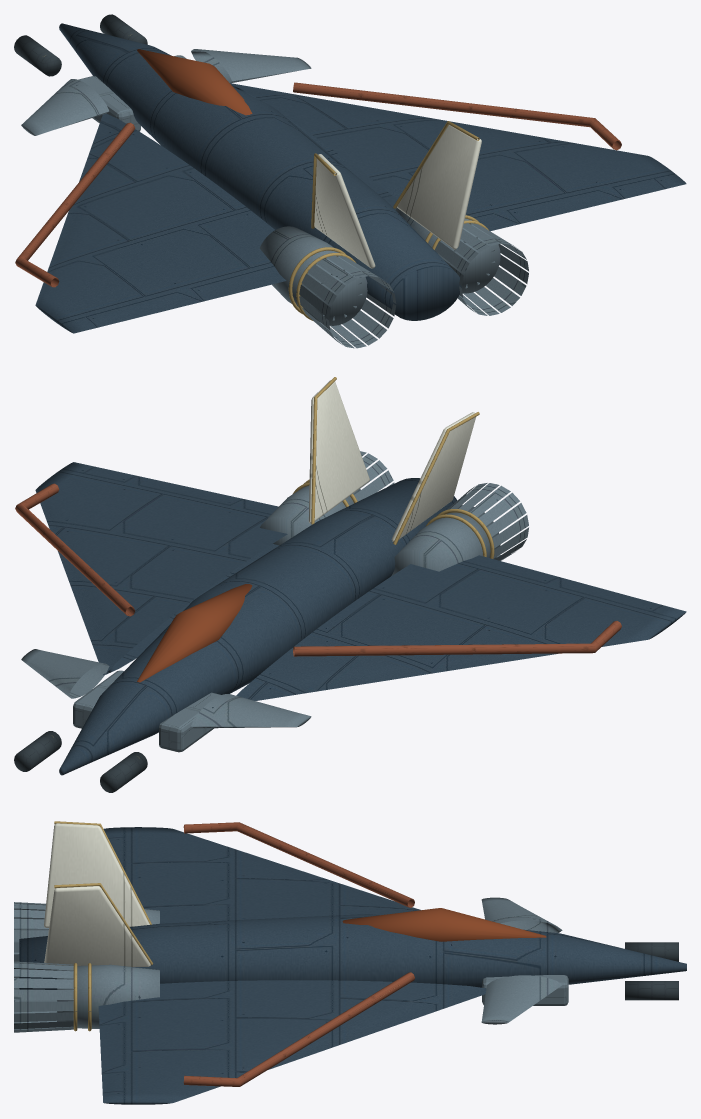
File: interceptor-high.glb
3 views of the same model, one above another, from view 1: azimuth 30°, elevation 25°; view 2: azimuth 150°, elevation 25°; view 3: azimuth 270°, elevation 25° (orthographic). The views are drawn at different scales.
Parts seen in each view (by area): view 1: core-navy-surfaces, core-titanium-surfaces, core-ceramic-surfaces, core-hostile-surfaces, core-enemyglass-surfaces, core-brass-surfaces, core-graphite-surfaces; view 2: core-navy-surfaces, core-titanium-surfaces, core-ceramic-surfaces, core-hostile-surfaces, core-enemyglass-surfaces, core-graphite-surfaces, core-brass-surfaces; view 3: core-navy-surfaces, core-titanium-surfaces, core-ceramic-surfaces, core-hostile-surfaces, core-enemyglass-surfaces, core-graphite-surfaces, core-brass-surfaces.
Boxes of the visible parts, x1,y1,x2,y2 form: core-navy-surfaces: (35,23,686,333); core-titanium-surfaces: (21,49,528,348); core-ceramic-surfaces: (314,124,481,268); core-hostile-surfaces: (15,82,621,287); core-enemyglass-surfaces: (137,49,252,115); core-brass-surfaces: (288,121,488,320); core-graphite-surfaces: (14,14,147,76); core-navy-surfaces: (35,462,686,775); core-titanium-surfaces: (21,451,528,752); core-ceramic-surfaces: (308,380,475,541); core-hostile-surfaces: (15,483,621,656); core-enemyglass-surfaces: (137,584,252,682); core-graphite-surfaces: (14,731,147,792); core-brass-surfaces: (293,377,494,558); core-navy-surfaces: (19,827,686,1104); core-titanium-surfaces: (14,897,568,1032); core-ceramic-surfaces: (44,823,150,966); core-hostile-surfaces: (183,822,414,1086); core-enemyglass-surfaces: (342,908,546,941); core-graphite-surfaces: (625,942,678,1000); core-brass-surfaces: (54,821,152,1031).
Size of the model in its own units: 6 by 1.49 by 6.22.
7 materials, 6 textured.
